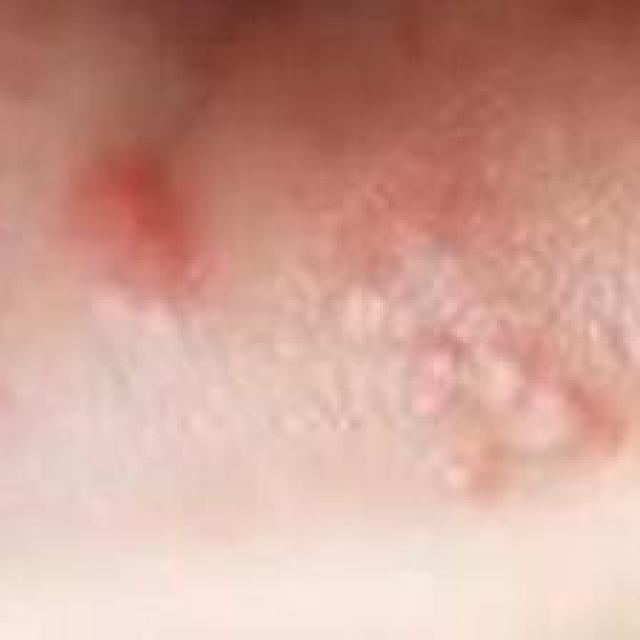monkeypox: (8, 67, 621, 602)
